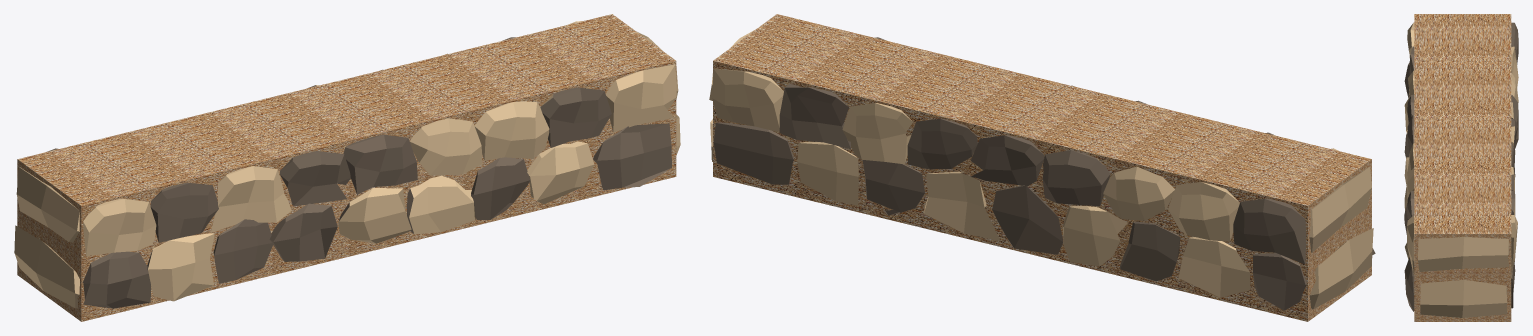
File: VallaPiedraConTextura.fbx
The picture shows the model from 3 angles, left to right: view 1: azimuth 30°, elevation 25°; view 2: azimuth 150°, elevation 25°; view 3: azimuth 270°, elevation 25°; orthographic projection. The views are drawn at different scales.
Visible parts, largest first — view 1: BaseMuro, PiedrasDecorativa1, Piedradecorativa2, PiedrasDecorativas3; view 2: BaseMuro, PiedrasDecorativa1, Piedradecorativa2, PiedrasDecorativas3; view 3: BaseMuro, PiedrasDecorativas4, PiedrasDecorativa1, Piedradecorativa2.
Boxes of the visible parts, x1,y1,x2,y2 form: BaseMuro: (17, 14, 676, 321); PiedrasDecorativa1: (47, 21, 676, 256); Piedradecorativa2: (83, 123, 671, 308); PiedrasDecorativas3: (14, 167, 79, 308); BaseMuro: (713, 14, 1371, 321); PiedrasDecorativa1: (712, 37, 1339, 264); Piedradecorativa2: (713, 122, 1375, 310); PiedrasDecorativas3: (1300, 167, 1373, 309); BaseMuro: (1414, 14, 1511, 321); PiedrasDecorativas4: (1417, 236, 1509, 318); PiedrasDecorativa1: (1407, 22, 1518, 274); Piedradecorativa2: (1404, 62, 1515, 311).
Size of the model in its own units: 1124 by 203 by 236.
